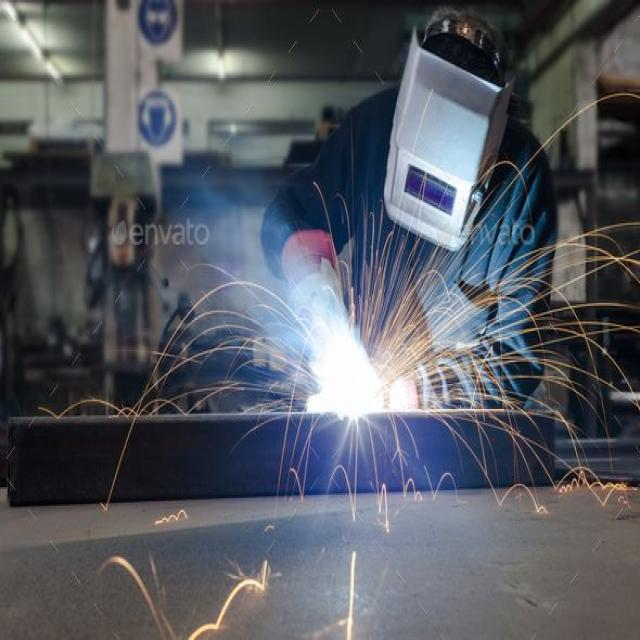with_helmet: (384, 39, 508, 248)
